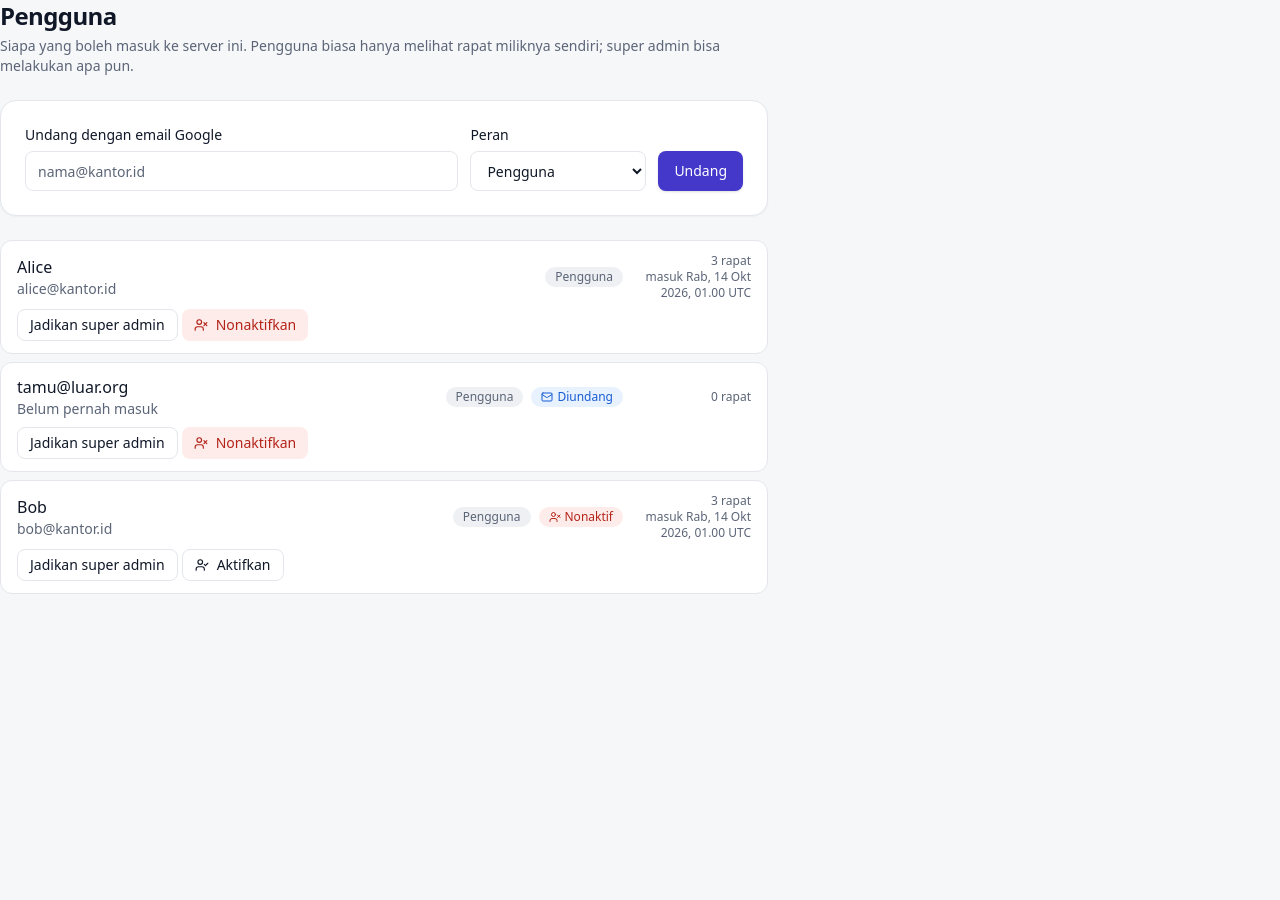
Test: admin page › asks before promoting someone, and says what the role means
Later steps or results of the test are not shown.
Expected: the text "Alice" is shown, [17,256,52,278]
Click the button "Jadikan super admin" below "alice@kantor.id" at (97, 325), box [17,309,178,341]
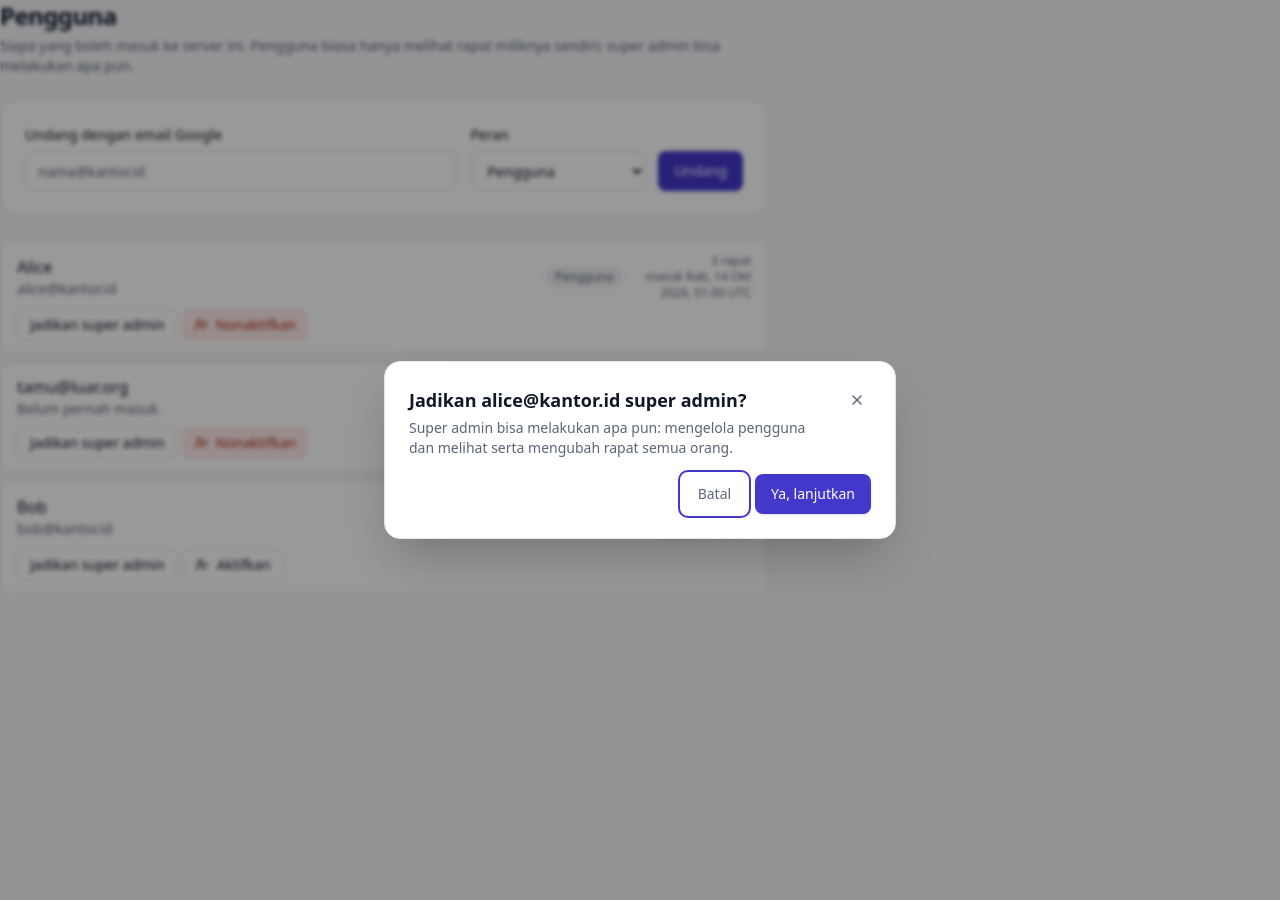
Expected: the text "melakukan apa pun" is shown, [409,418,806,457]
